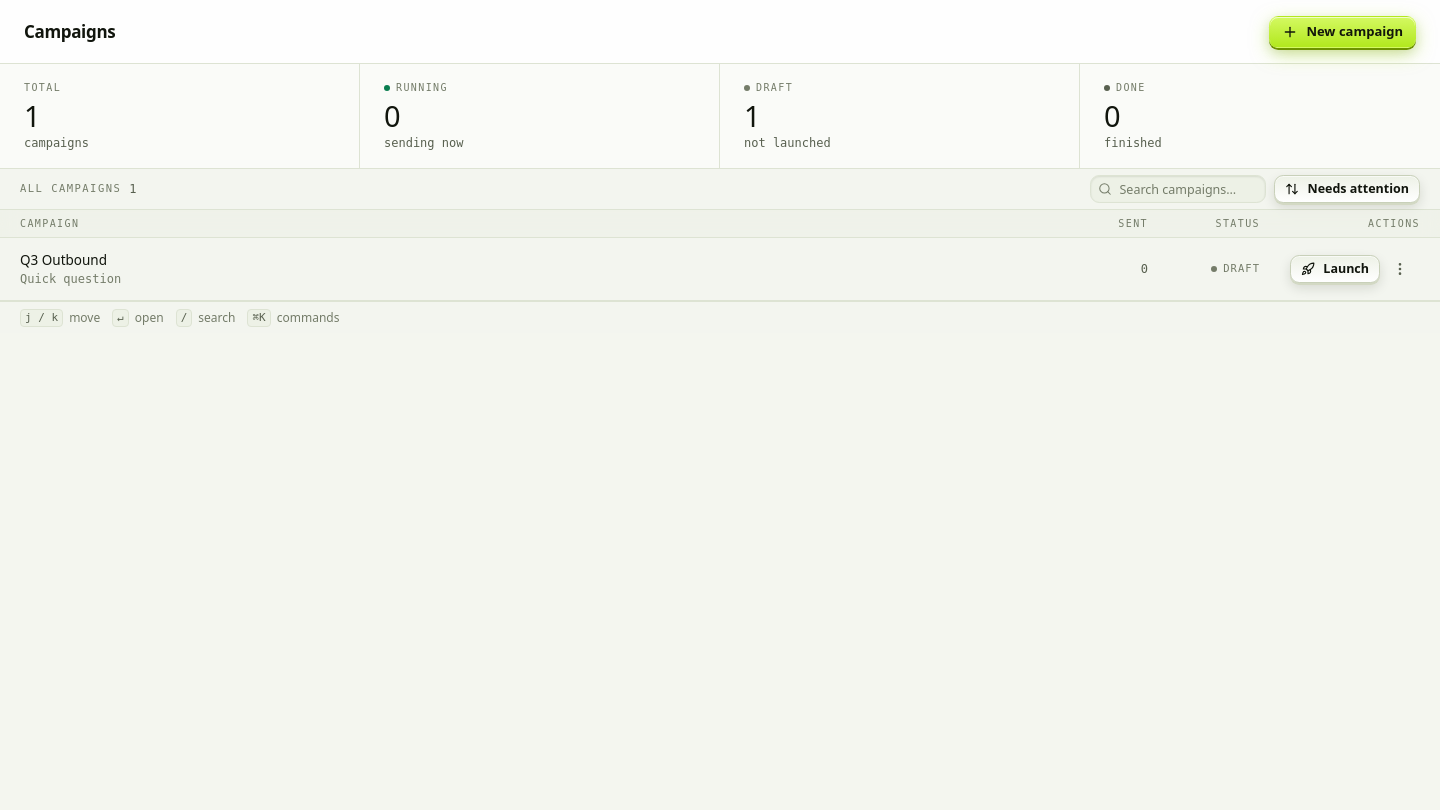
Scenario: clicking Launch opens the preflight dialog instead of firing the launch mutation immediately
This screenshot has width=1440, height=810.
Click the button "Launch".
click(1335, 269)  # box left=1290, top=255, right=1380, bottom=283
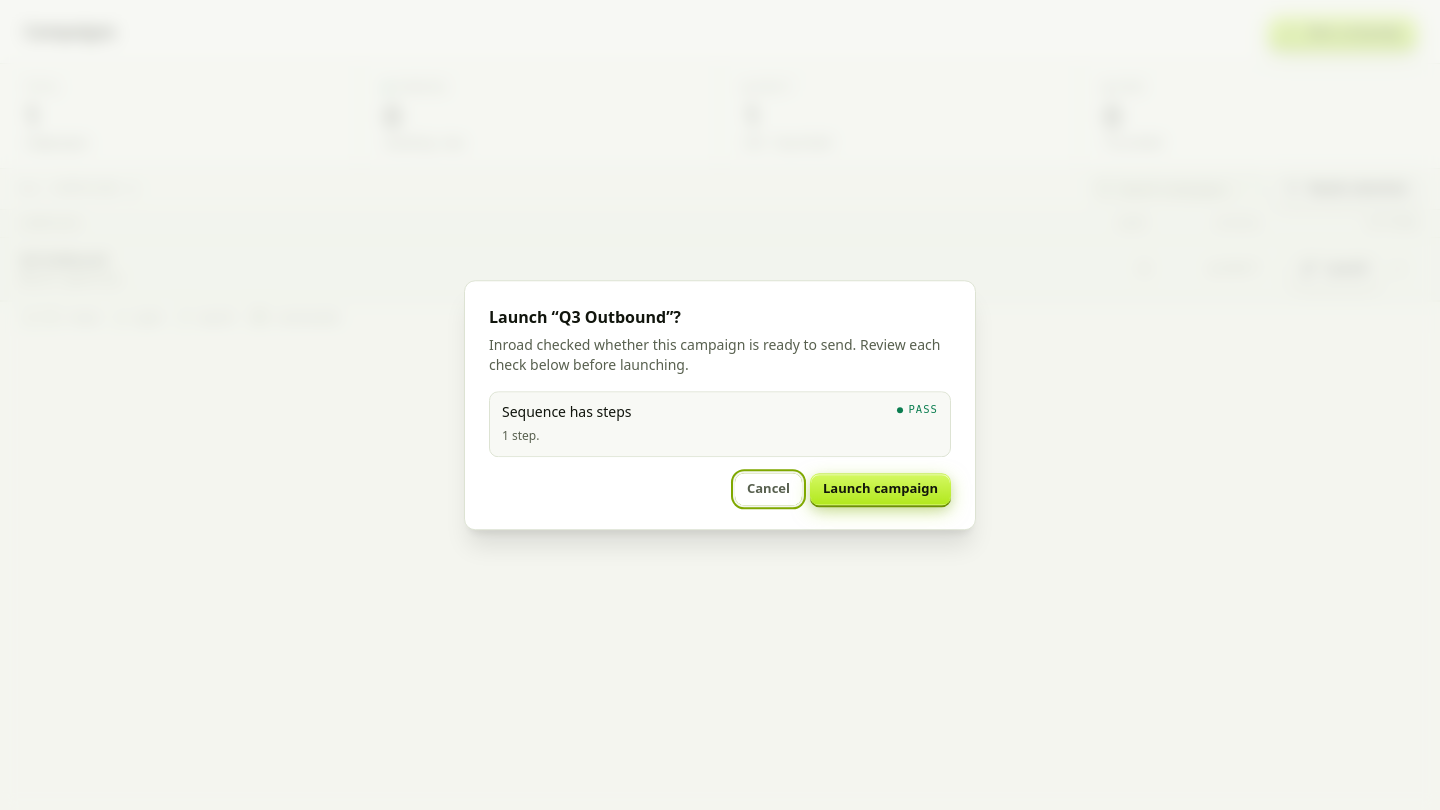
Expected: the dialog is shown, left=464, top=280, right=976, bottom=530
